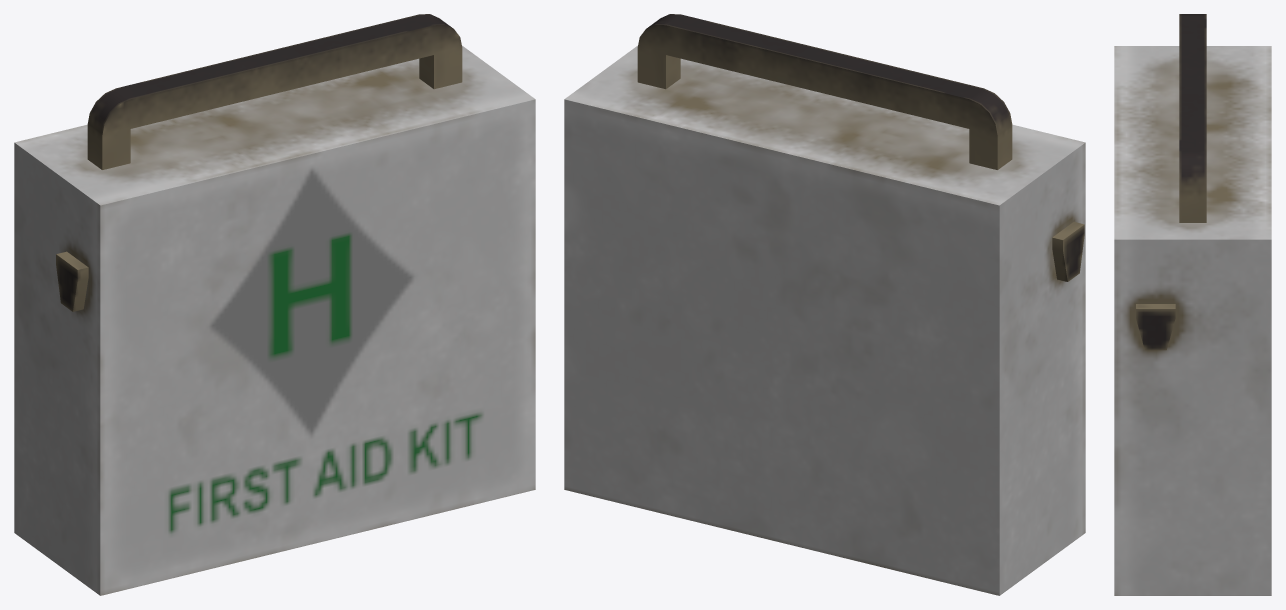
File: medkit.fbx
3 views of the same model, side by side, from view 1: azimuth 30°, elevation 25°; view 2: azimuth 150°, elevation 25°; view 3: azimuth 270°, elevation 25° (orthographic). The views are drawn at different scales.
Visible parts, largest first — view 1: medkit; view 2: medkit; view 3: medkit.
Boxes of the visible parts, box(x1,y1,x2,y2) form: medkit: box(14, 14, 535, 595); medkit: box(564, 14, 1085, 595); medkit: box(1114, 14, 1271, 595).
Bounding box in the file's own units: 36.74 × 34.93 × 12.
1 material, 1 textured.
